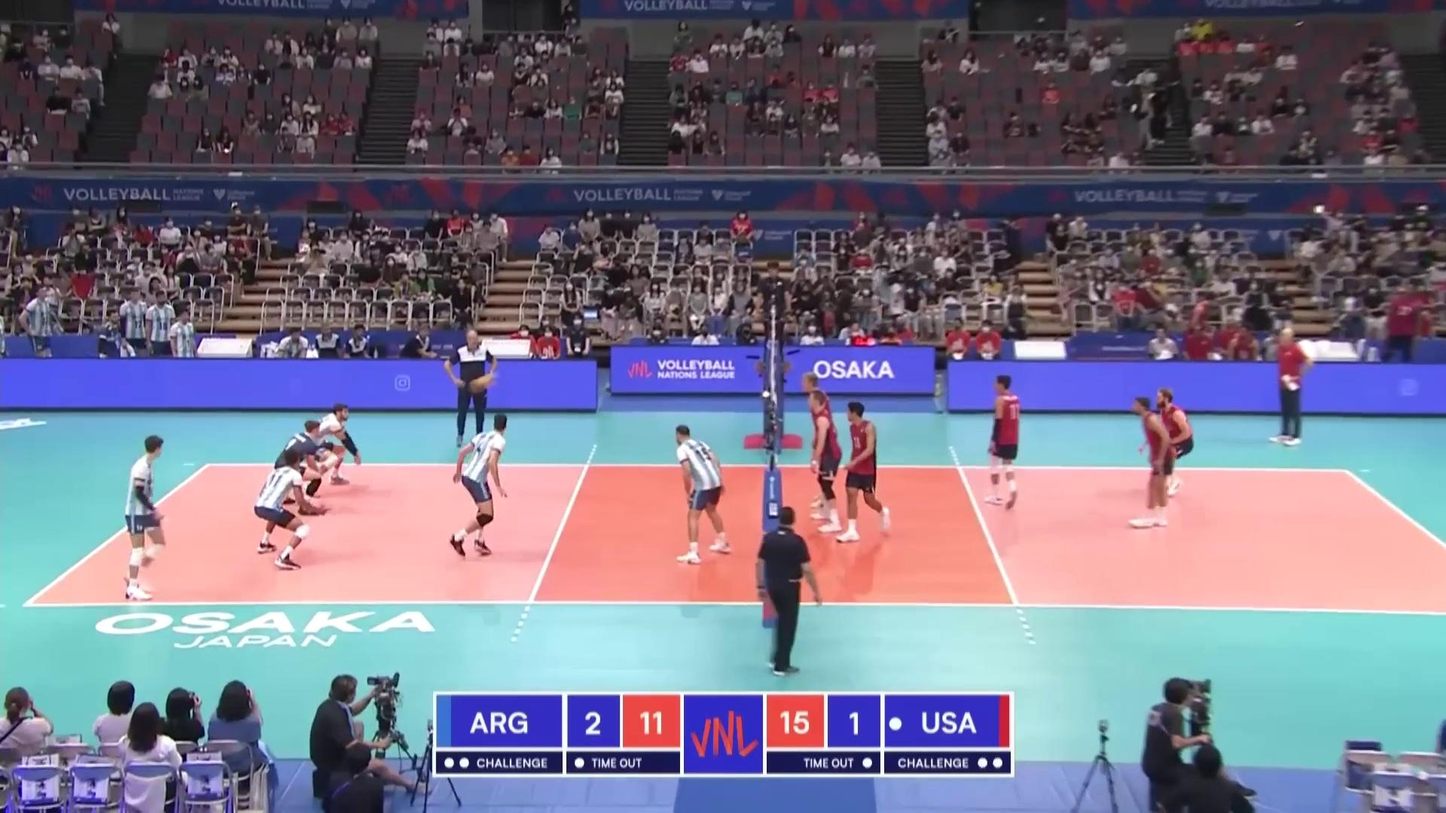player: (672, 425, 732, 564), (449, 414, 507, 557), (838, 401, 891, 543), (254, 451, 317, 569), (121, 436, 166, 601), (273, 422, 336, 517), (1130, 395, 1174, 530), (800, 373, 841, 510), (301, 405, 363, 487), (985, 377, 1022, 509), (808, 391, 842, 533), (1154, 388, 1194, 498)
refree: (758, 511, 818, 673), (758, 262, 789, 355)
